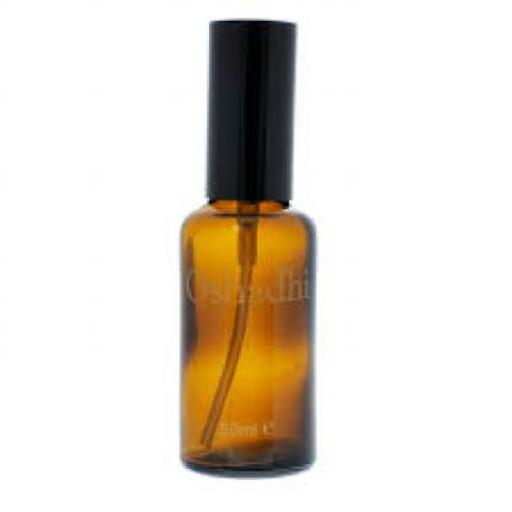glass: (178, 200, 312, 478)
plastic: (208, 18, 294, 202)
